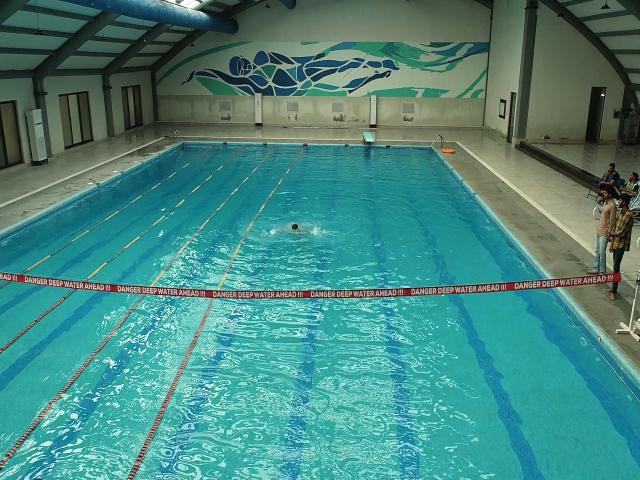drowning: (278, 221, 312, 241)
out of water: (602, 194, 634, 302), (587, 188, 617, 278), (597, 163, 621, 193), (618, 171, 640, 199)
